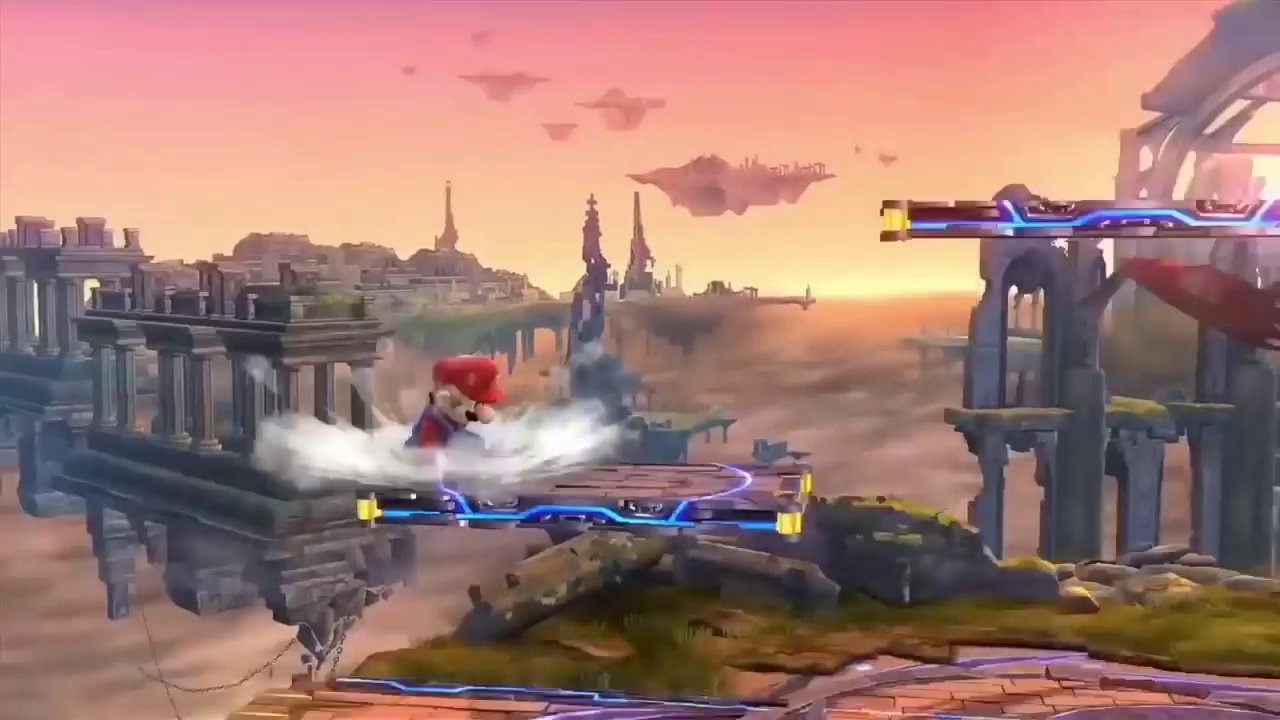Mario: (405, 359, 501, 468)
